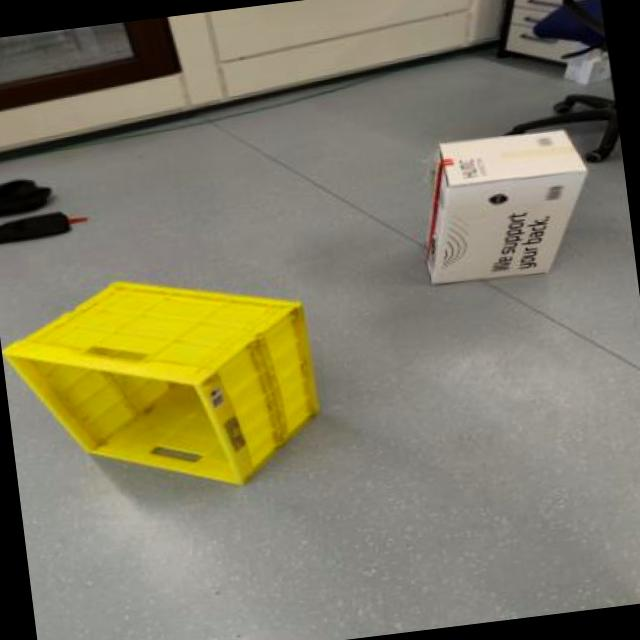box: (0, 234, 352, 562), (376, 112, 632, 336)
